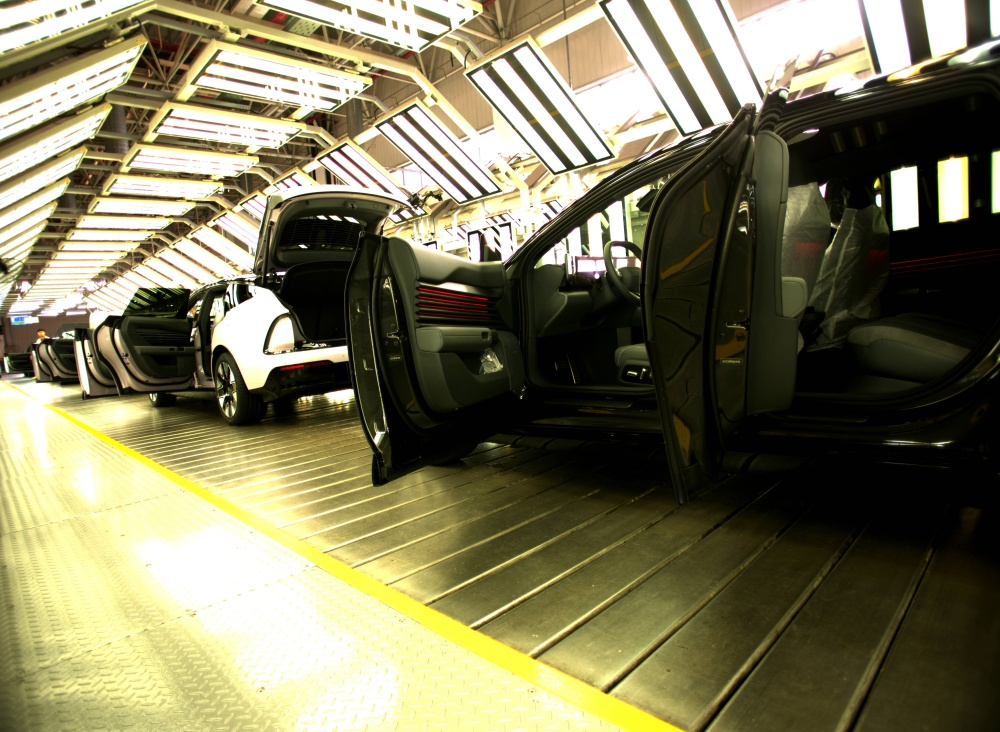armrest_color: (414, 324, 496, 354)
panel_color: (411, 277, 493, 328)
